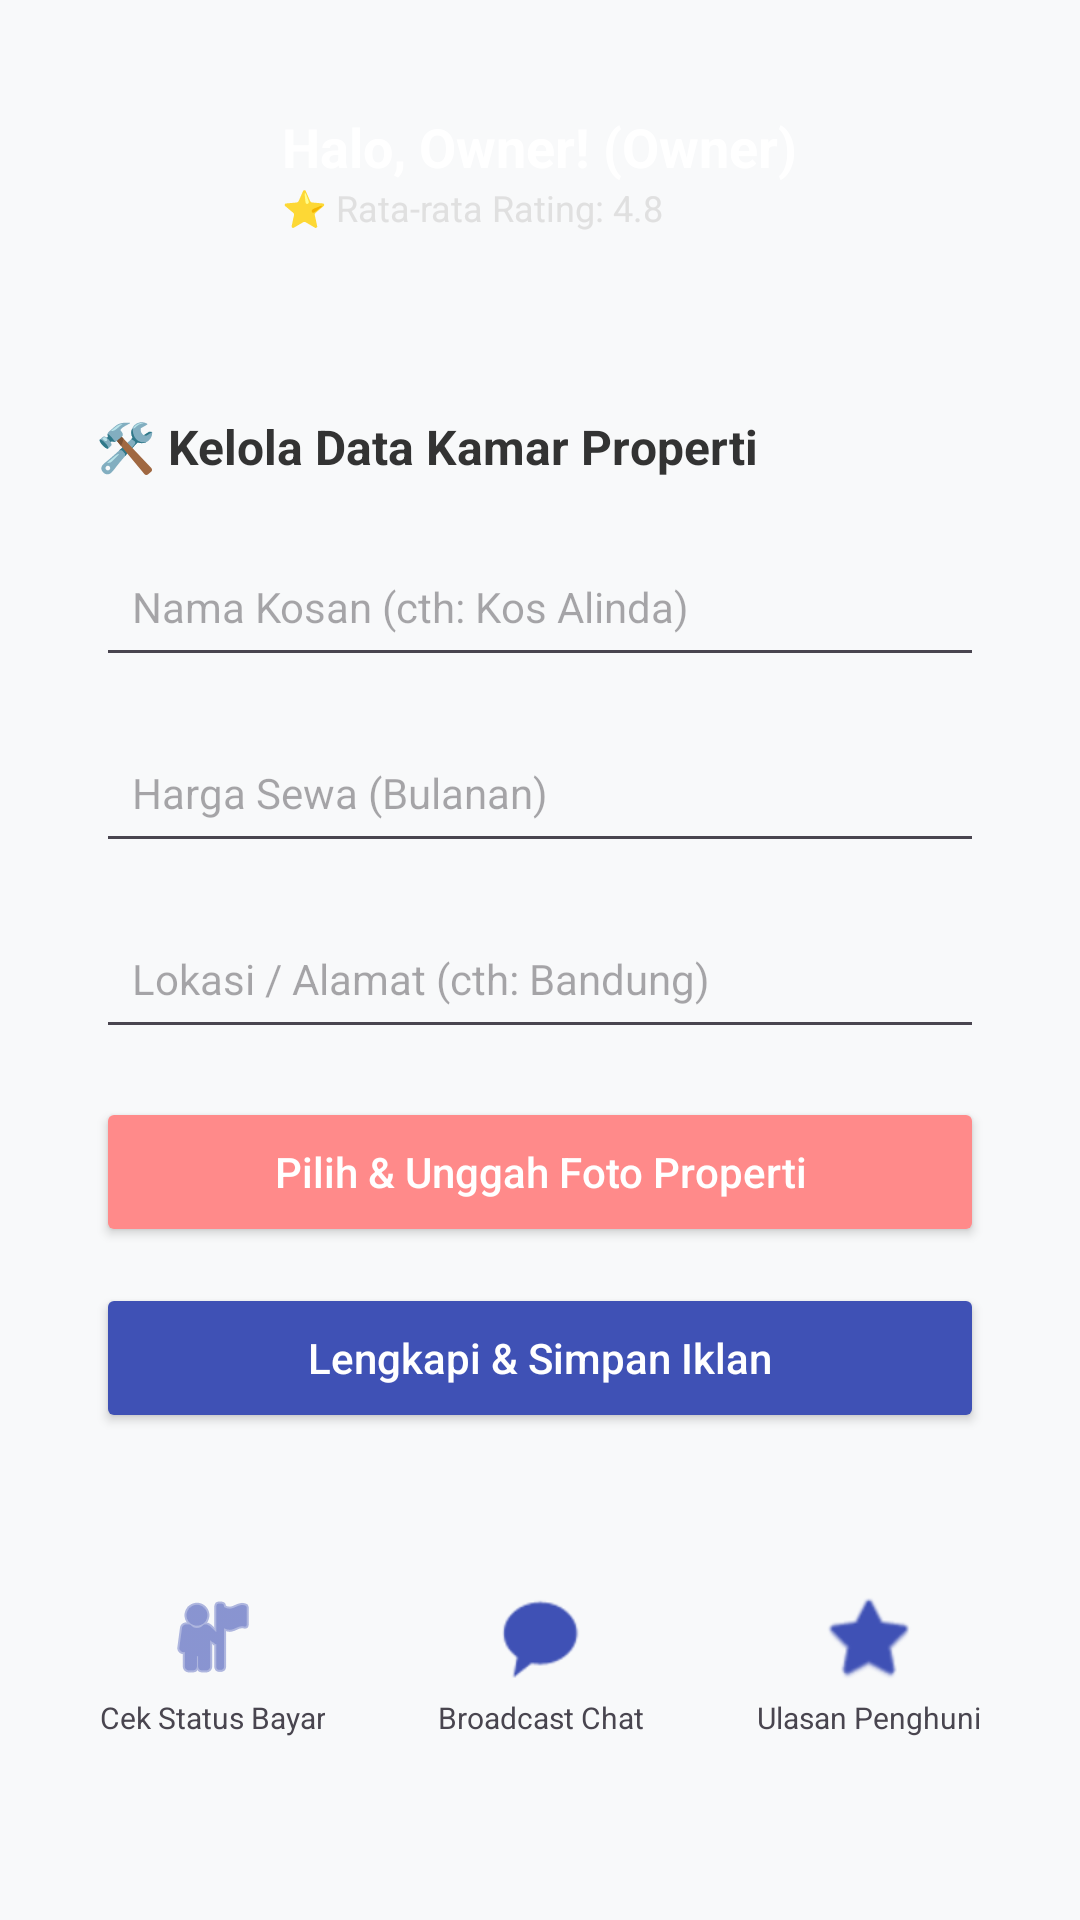

Locate icon controls on the screen. Image size 1080px x 1920px, boxes as detection(x1, y1, x2, y2).
myplaces: detection(177, 1601, 249, 1673)
star on: detection(829, 1599, 909, 1676)
sym action chat: detection(503, 1601, 578, 1678)
